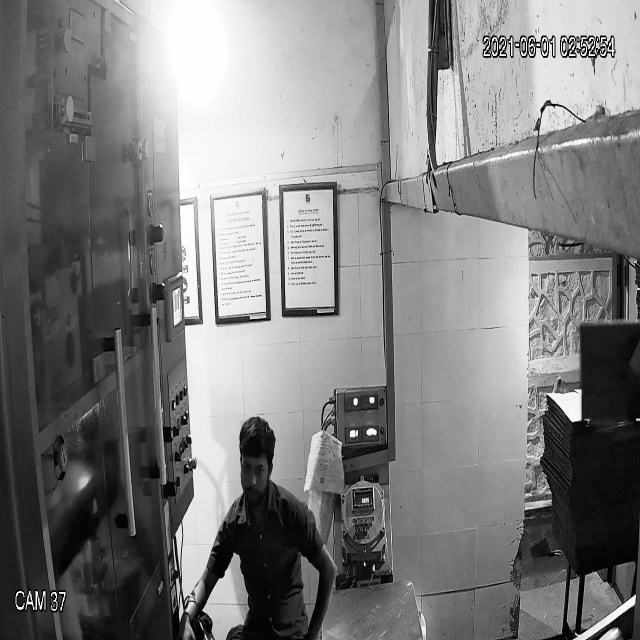Sin_gafas: (234, 447, 273, 484)
